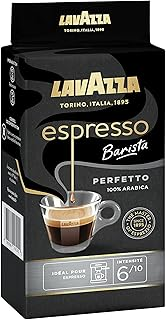Coffee: (1, 3, 166, 319)
